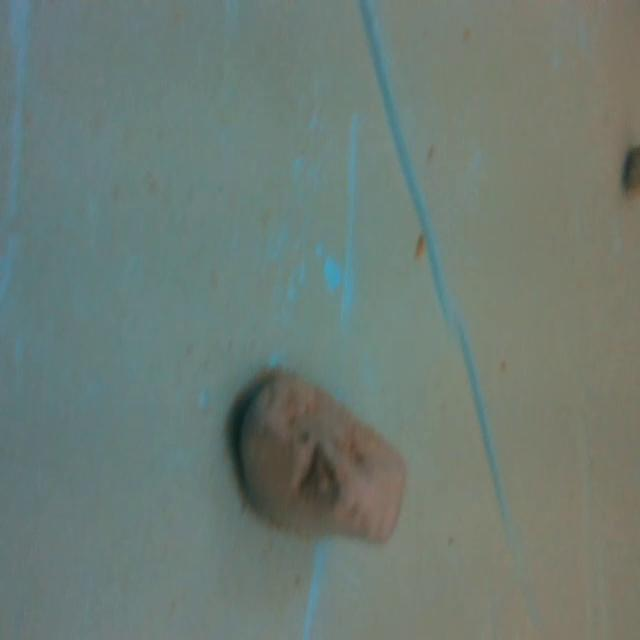rock: (226, 354, 413, 556)
